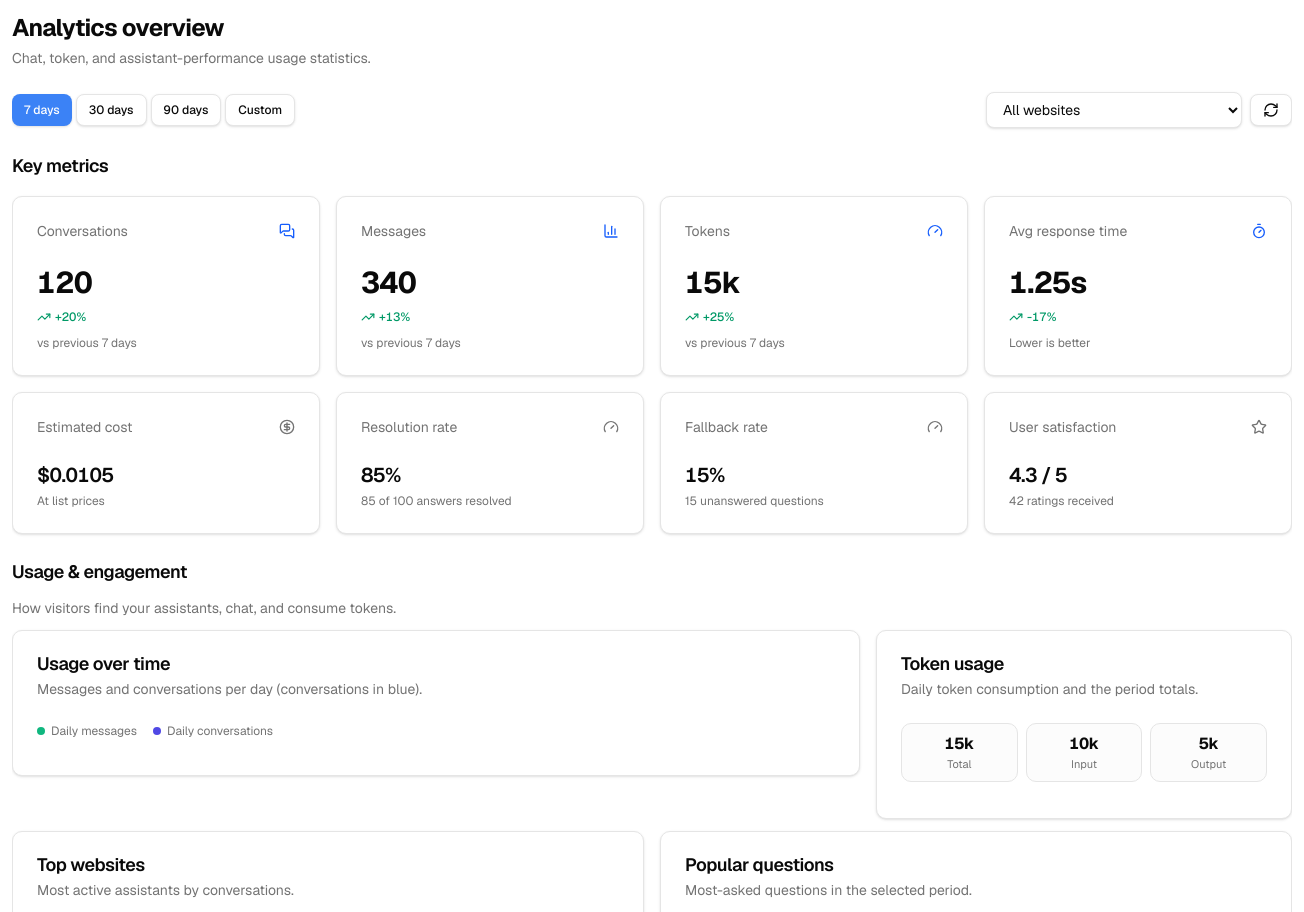
Test: AnalyticsPage › asks for both dates before rendering an incomplete custom range
Click the button "Custom" at (260, 110), box [225,94,295,126]
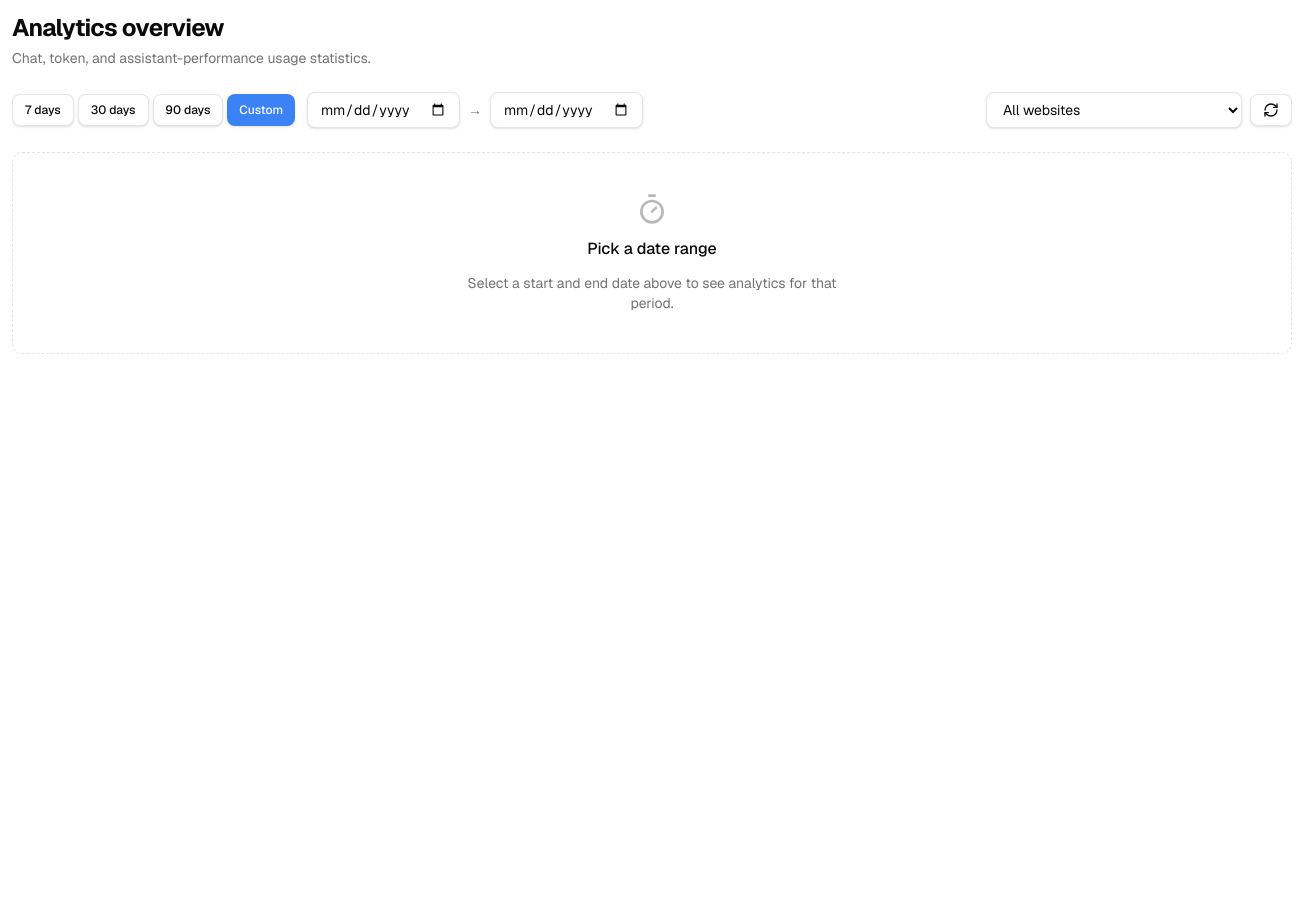
Expected: the text "Pick a date range" is shown, [587,237,717,261]
Expected: the text "Conversations" is gone
